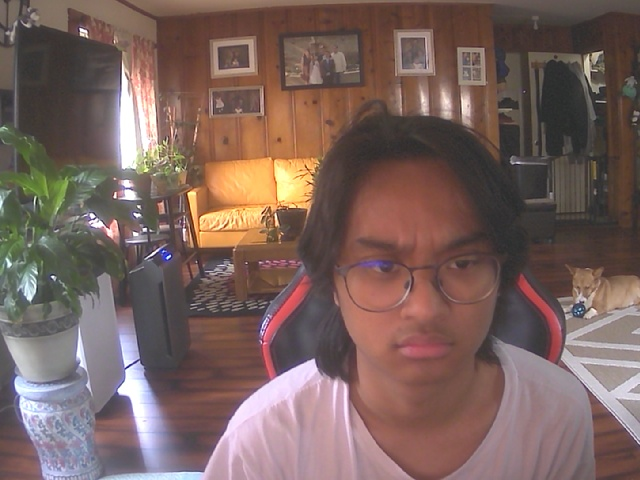anger: (326, 121, 514, 390)
